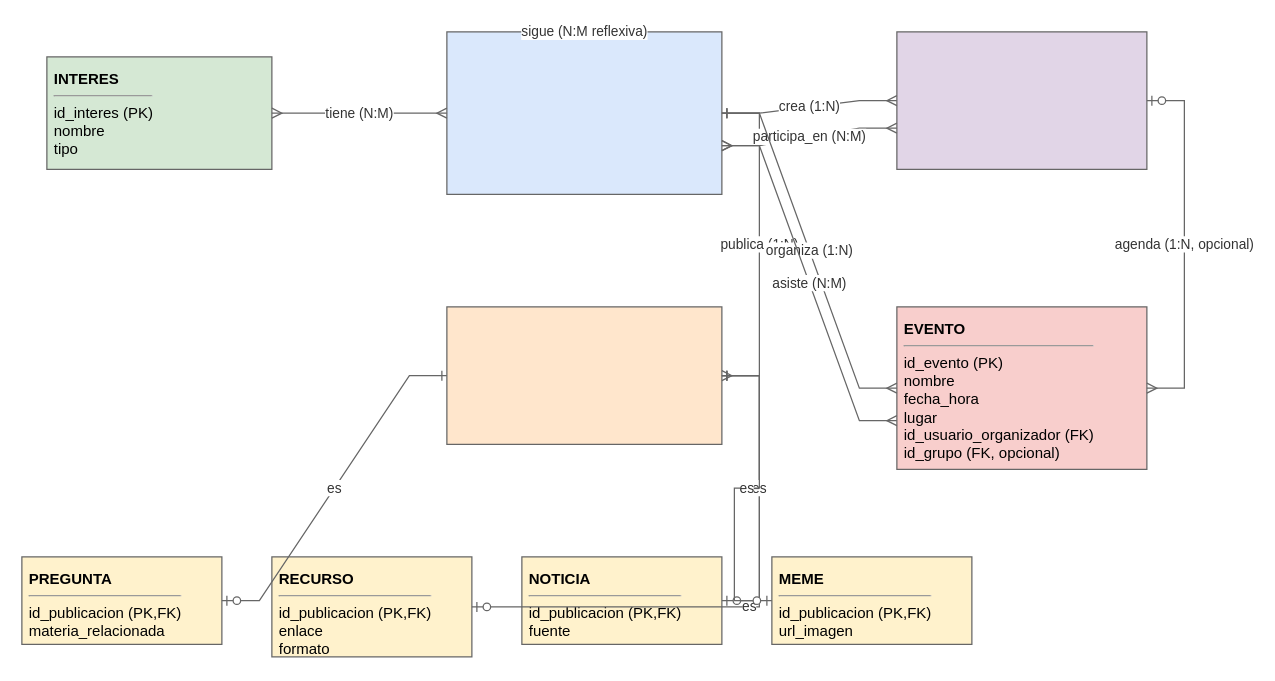
This 1275x681 diagram has some shape labels left out. Each missing label, with the box of its shape:
GRUPO id_grupo (PK) nombre categoria id_usuario_creador (FK): (896, 31, 1147, 169)
PUBLICACION id_publicacion (PK) id_usuario (FK) contenido fecha_publicacion tipo: (446, 306, 722, 444)
USUARIO id_usuario (PK) nombre correo carrera area_estudio: (446, 31, 722, 194)
